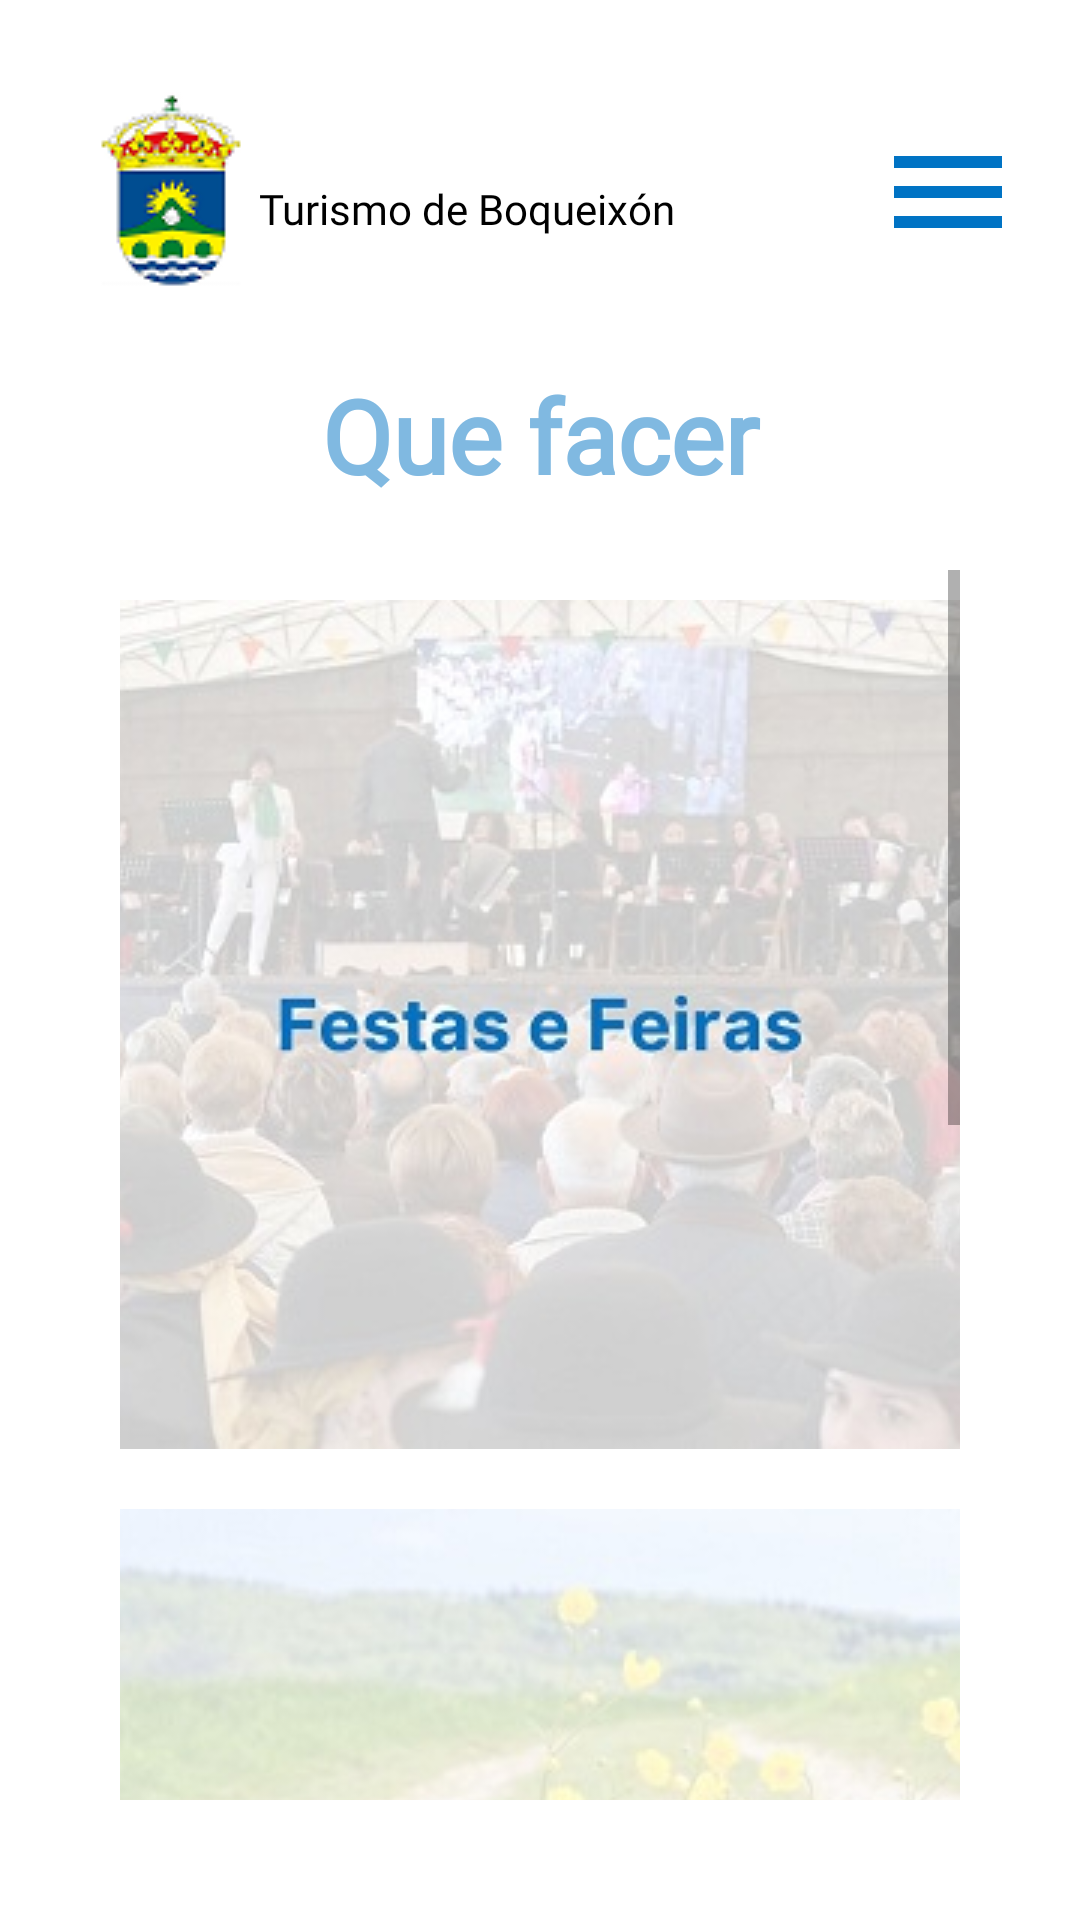

Where icons sit on this 1080x1920 app screen, as [x1,y1,x2,y2]:
hamburguesa: [894,156,1002,228]
